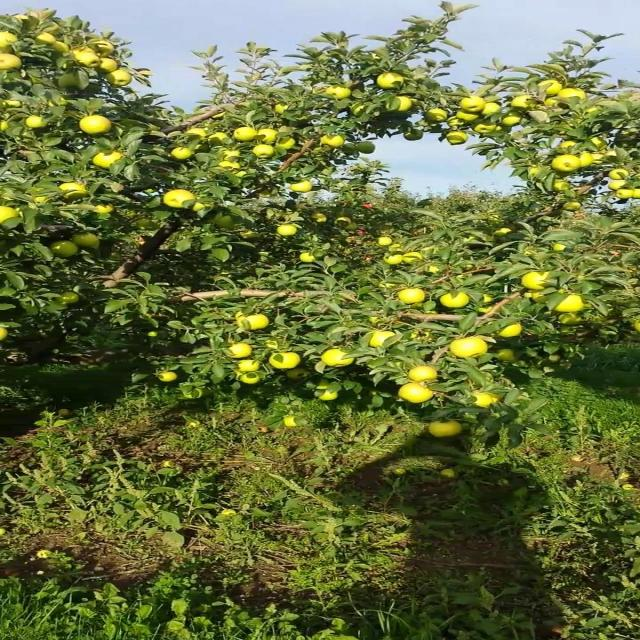apple: (454, 340, 491, 360), (84, 116, 114, 136), (404, 384, 434, 404), (163, 192, 197, 208), (92, 152, 123, 168), (376, 72, 405, 89), (326, 352, 356, 368), (269, 352, 299, 368), (369, 332, 398, 348), (440, 292, 469, 308), (554, 296, 583, 312), (554, 156, 580, 173), (433, 424, 462, 439), (241, 316, 270, 331), (511, 96, 539, 111), (63, 184, 89, 200), (525, 272, 549, 289), (412, 368, 441, 382), (227, 344, 254, 359), (540, 80, 564, 96), (397, 292, 427, 304), (390, 96, 412, 112), (561, 88, 588, 101), (497, 324, 524, 337), (77, 52, 98, 68), (234, 128, 256, 143), (241, 316, 263, 331), (326, 88, 352, 100), (212, 216, 236, 229), (540, 96, 562, 110), (113, 72, 133, 87), (56, 244, 78, 257), (454, 112, 482, 122), (461, 100, 484, 112), (77, 236, 100, 248), (476, 124, 501, 135), (447, 132, 469, 144), (255, 148, 277, 160), (170, 148, 192, 160), (241, 360, 263, 372), (255, 132, 277, 144), (99, 60, 121, 72), (241, 372, 263, 384), (134, 220, 160, 230), (326, 136, 347, 148), (426, 112, 448, 123), (220, 160, 242, 171), (92, 204, 114, 215), (92, 44, 114, 55), (504, 116, 524, 128), (611, 168, 631, 180), (483, 104, 503, 116), (49, 96, 69, 108), (276, 140, 299, 150), (404, 252, 423, 264), (591, 152, 610, 164), (6, 56, 21, 71), (582, 152, 596, 168), (28, 116, 46, 128), (554, 180, 572, 192), (476, 396, 494, 408), (561, 140, 580, 151), (212, 132, 228, 145), (63, 76, 80, 88), (35, 36, 57, 45), (497, 352, 519, 361), (561, 316, 583, 325), (532, 292, 548, 304), (284, 416, 300, 428), (611, 180, 628, 191), (589, 140, 606, 151), (276, 228, 299, 236), (404, 132, 427, 140), (191, 128, 206, 140), (355, 104, 370, 116), (291, 184, 313, 192), (319, 392, 341, 400), (191, 204, 213, 212), (561, 204, 583, 212), (6, 32, 20, 44), (447, 120, 468, 128), (163, 372, 178, 383), (362, 144, 377, 155), (6, 208, 20, 219), (276, 104, 290, 114), (497, 228, 514, 236), (241, 232, 258, 240), (262, 340, 279, 348), (390, 244, 405, 253), (618, 192, 633, 200), (227, 152, 242, 160), (63, 296, 78, 304), (56, 44, 71, 52), (291, 372, 306, 380), (6, 100, 21, 108), (490, 396, 505, 404), (35, 196, 50, 204), (312, 216, 327, 224), (234, 172, 251, 179), (433, 264, 446, 273), (554, 244, 567, 252), (390, 256, 404, 263), (340, 216, 352, 224), (184, 392, 197, 399), (483, 296, 494, 304), (582, 108, 599, 113), (632, 188, 639, 200), (305, 256, 315, 264), (319, 384, 331, 390), (532, 168, 540, 175), (148, 332, 158, 337), (554, 356, 562, 362), (383, 240, 391, 245), (483, 308, 492, 312)
